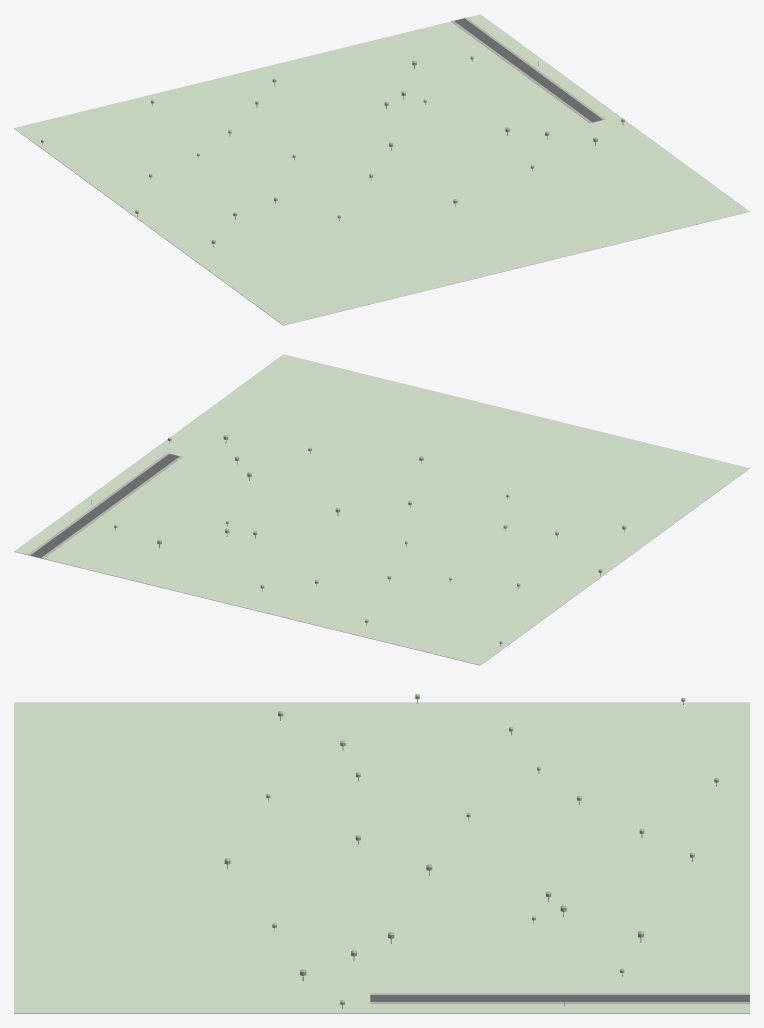
File: chunk_5_7_low.glb
3 renders of one model, top to bottom at view 1: azimuth 30°, elevation 25°; view 2: azimuth 150°, elevation 25°; view 3: azimuth 270°, elevation 25°, orthographic. The views are drawn at different scales.
Visible parts, largest first — view 1: city_grass, city_world_asphalt, city_world_sidewalk; view 2: city_grass, city_world_asphalt, city_world_sidewalk; view 3: city_grass, city_world_asphalt, city_world_sidewalk, city_foliage_dark, city_curb.
Boxes of the visible parts, bbox=[...] form: city_grass: bbox=[14, 14, 749, 325]; city_world_asphalt: bbox=[454, 18, 602, 122]; city_world_sidewalk: bbox=[451, 17, 604, 122]; city_grass: bbox=[14, 354, 749, 665]; city_world_asphalt: bbox=[31, 454, 179, 557]; city_world_sidewalk: bbox=[28, 453, 182, 558]; city_grass: bbox=[14, 702, 749, 1013]; city_world_asphalt: bbox=[370, 995, 749, 1001]; city_world_sidewalk: bbox=[370, 993, 749, 1003]; city_foliage_dark: bbox=[224, 694, 718, 1004]; city_curb: bbox=[370, 993, 749, 1003].
Size of the model in its own units: 512 by 9.45 by 512.
